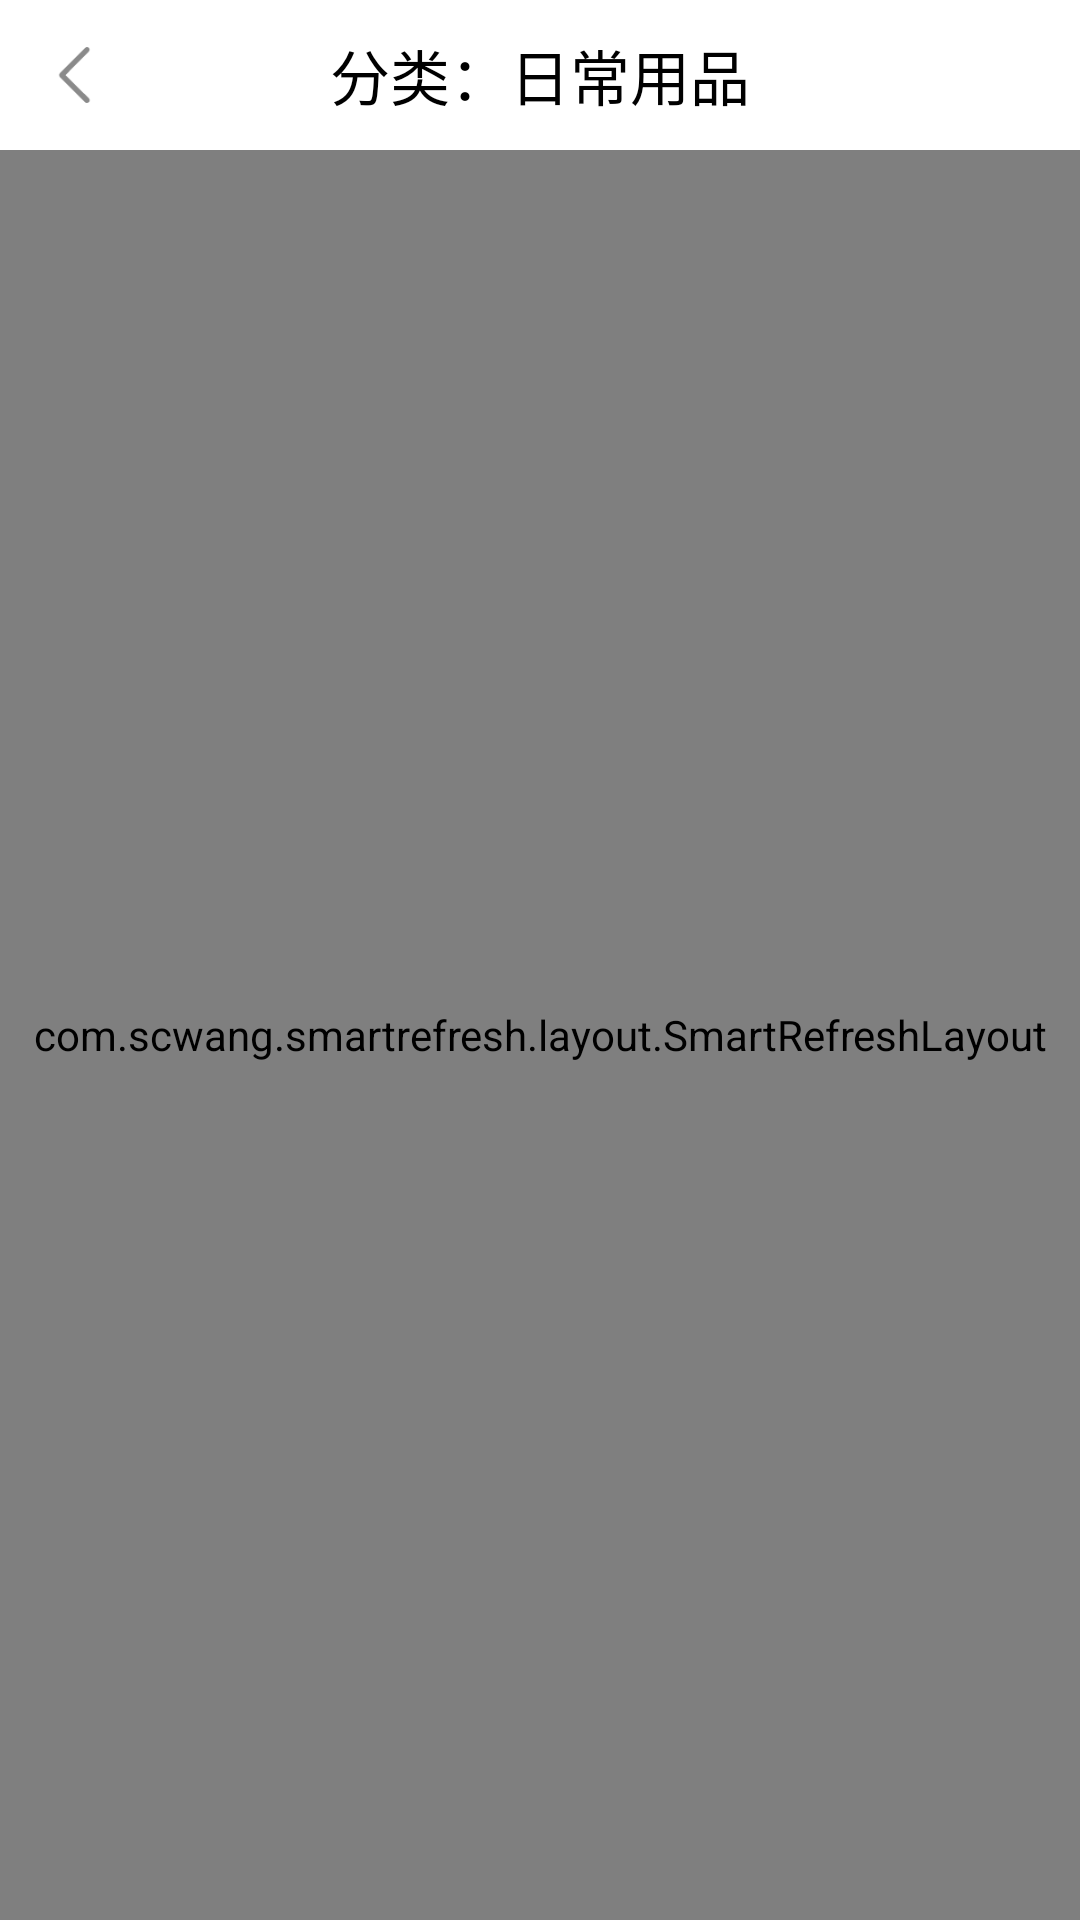

Icons on this 1080×1920 Android screen, each with its box as (x1, y1, x2, y2):
arrow back: (59, 47, 90, 103)
